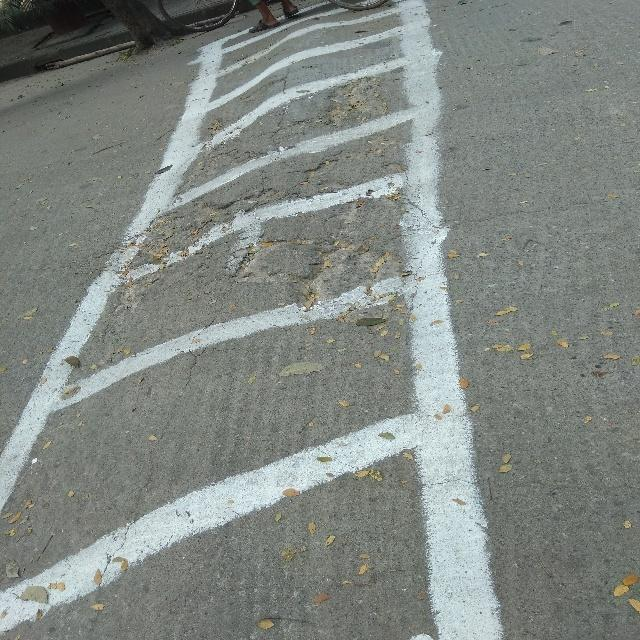Surface Erosion: (159, 85, 457, 322)
